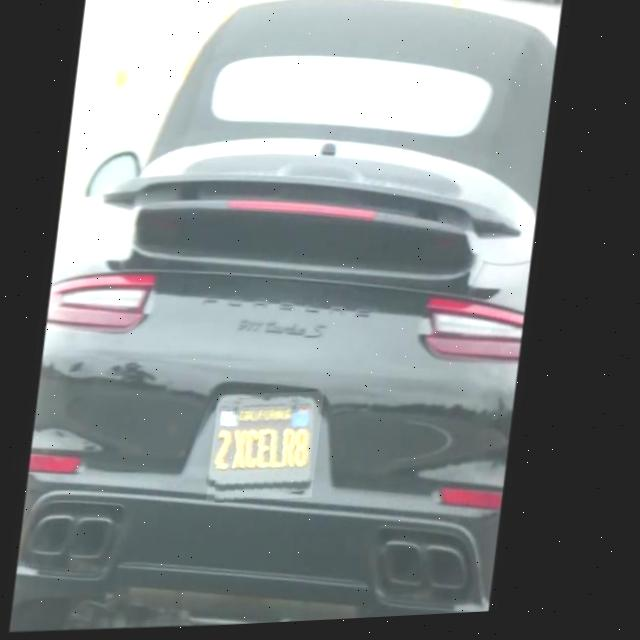LicensePlate: (217, 393, 334, 505)
